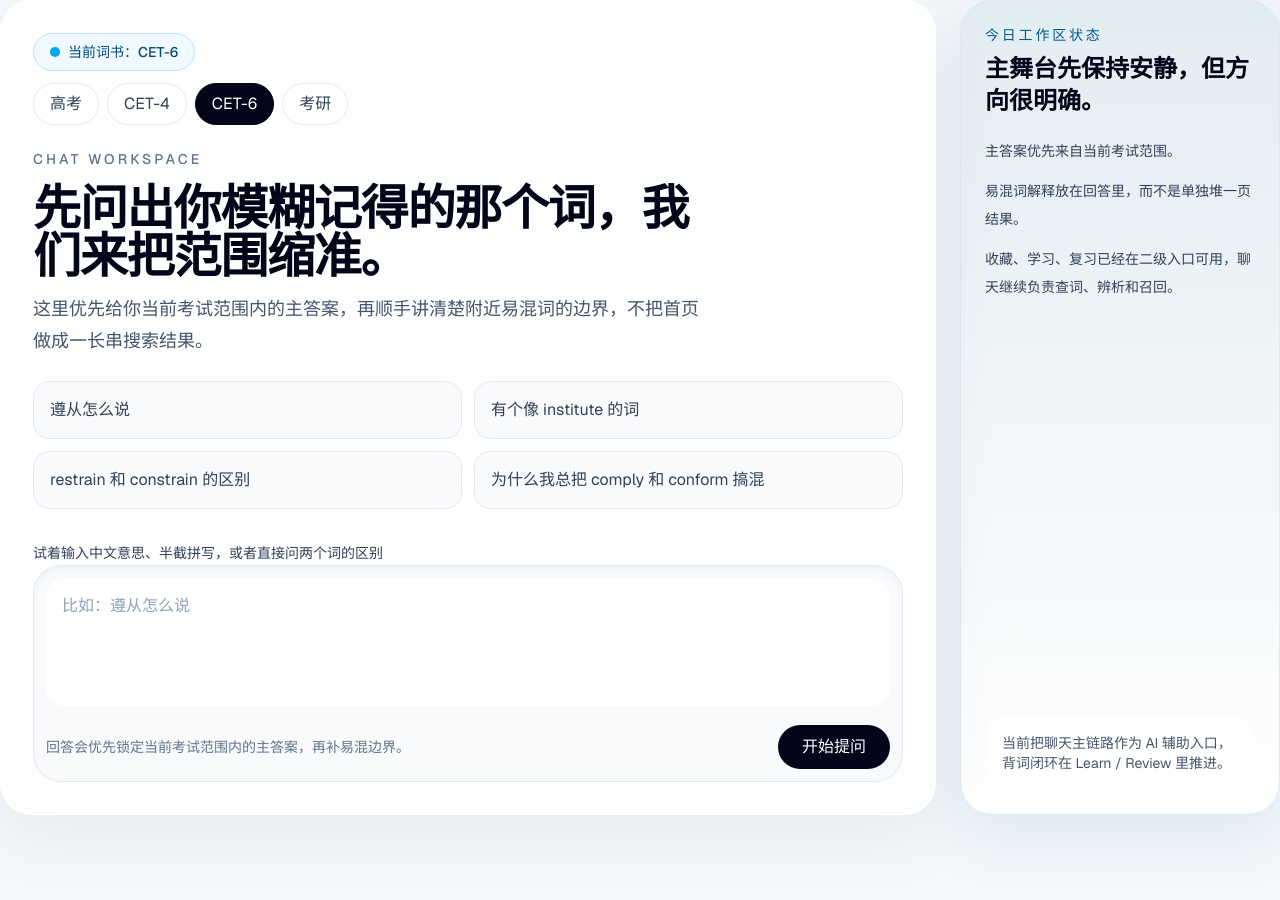
Test: ChatWorkspace › shows a quiet context hint after an assistant response with conversation context
In the text box with test id "chat-input": (468, 642) [46, 578, 890, 706], type "comply conform"
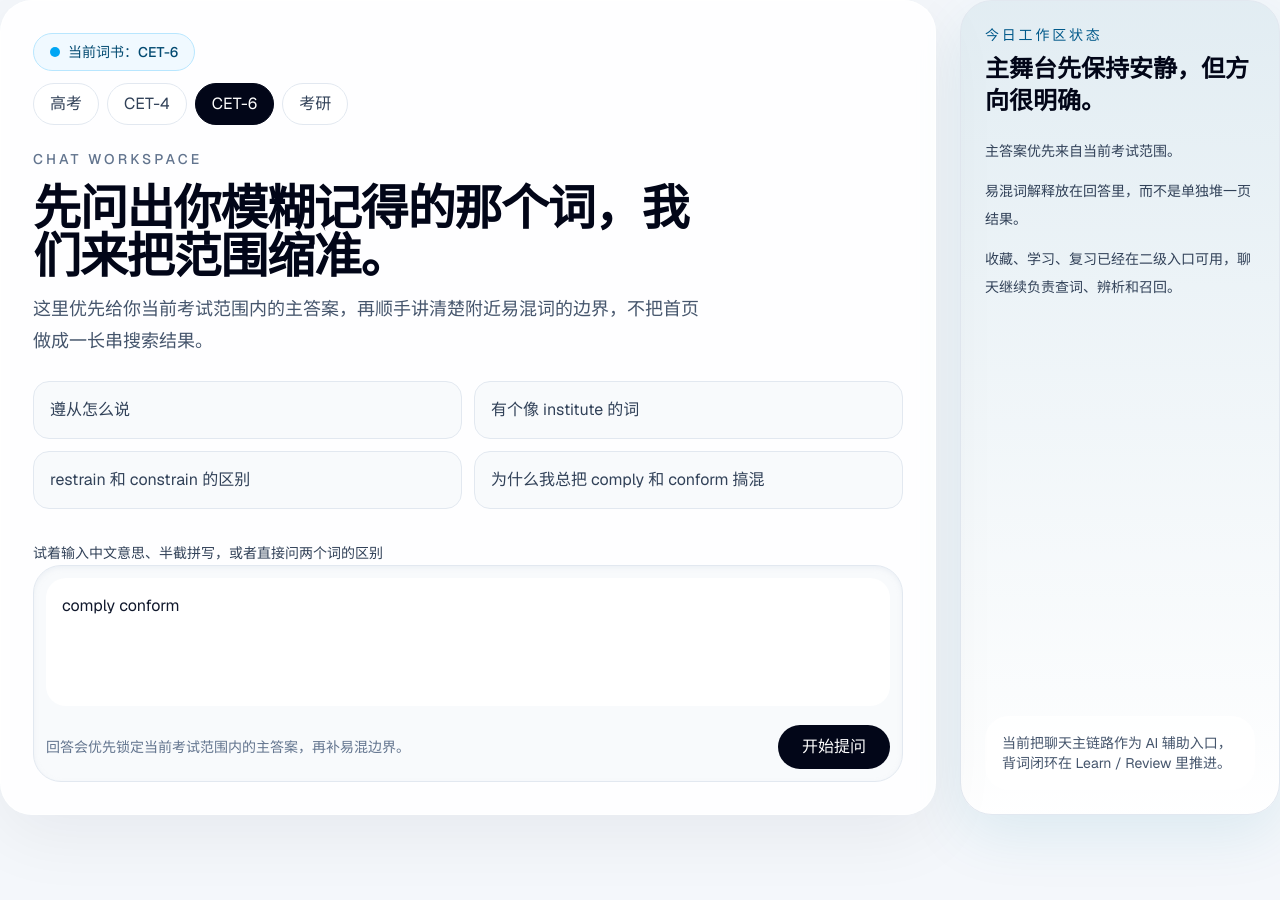
Click the button "开始提问": (834, 747) [778, 725, 890, 769]
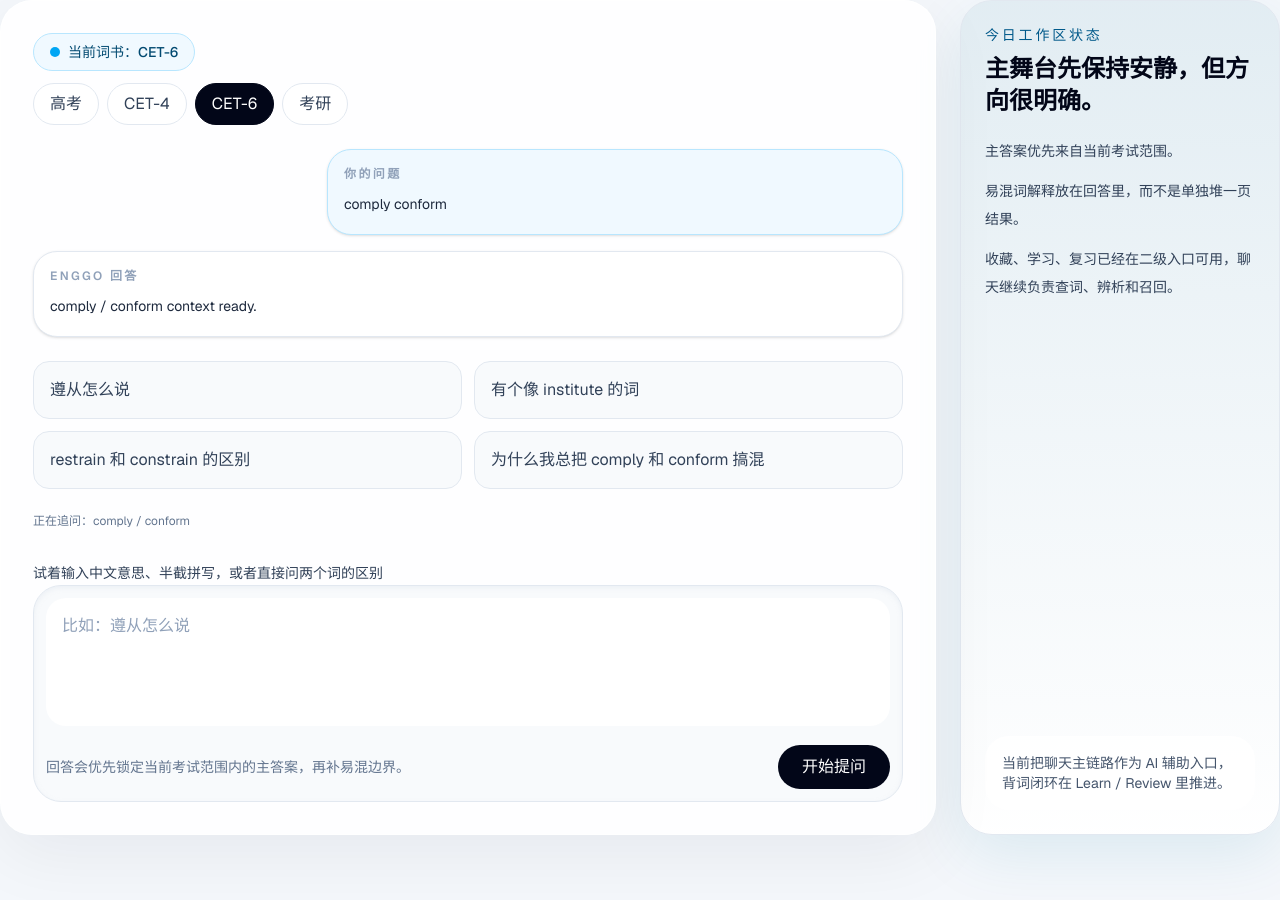
Result: the text "comply / conform context ready." is shown at [50, 297, 256, 315]
Result: the text "正在追问：comply / conform" is shown at [33, 513, 190, 529]
